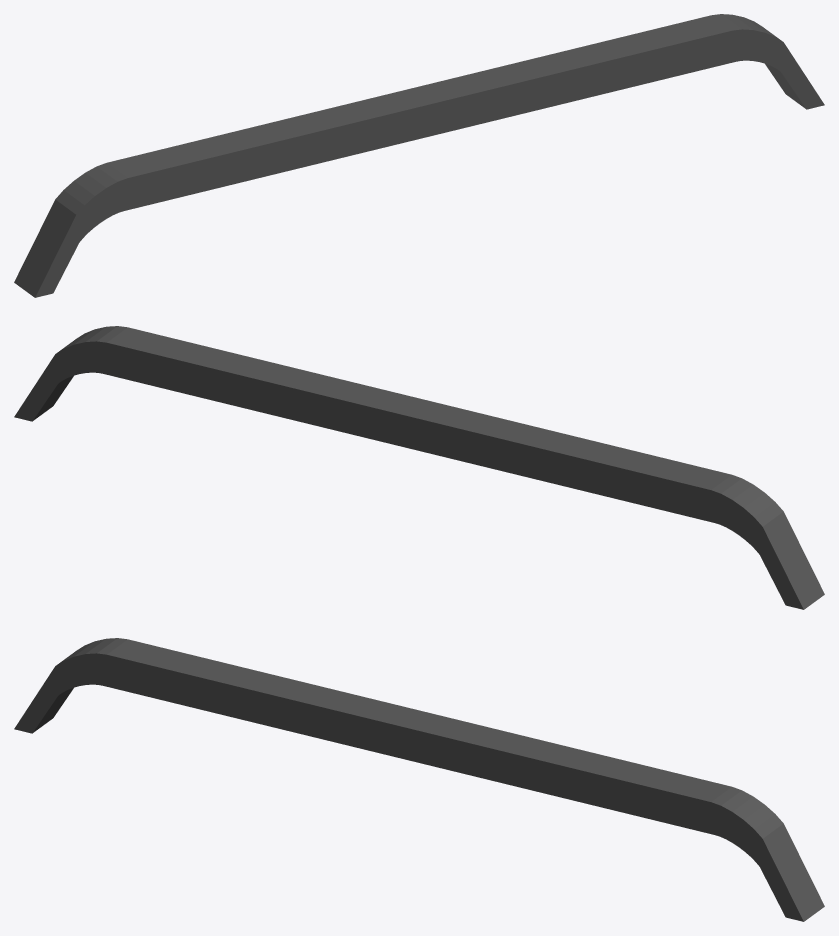
File: RoofRack.fbx
3 renders of one model, top to bottom at view 1: azimuth 30°, elevation 25°; view 2: azimuth 150°, elevation 25°; view 3: azimuth 330°, elevation 25°, orthographic.
Visible parts, largest first — view 1: Cube; view 2: Cube; view 3: Cube.
Boxes of the visible parts, left/top/right/bottom form: Cube: left=14, top=14, right=824, bottom=297; Cube: left=14, top=326, right=824, bottom=609; Cube: left=14, top=638, right=824, bottom=921.
Size of the model in its own units: 1.12 by 0.1321 by 0.0519.
